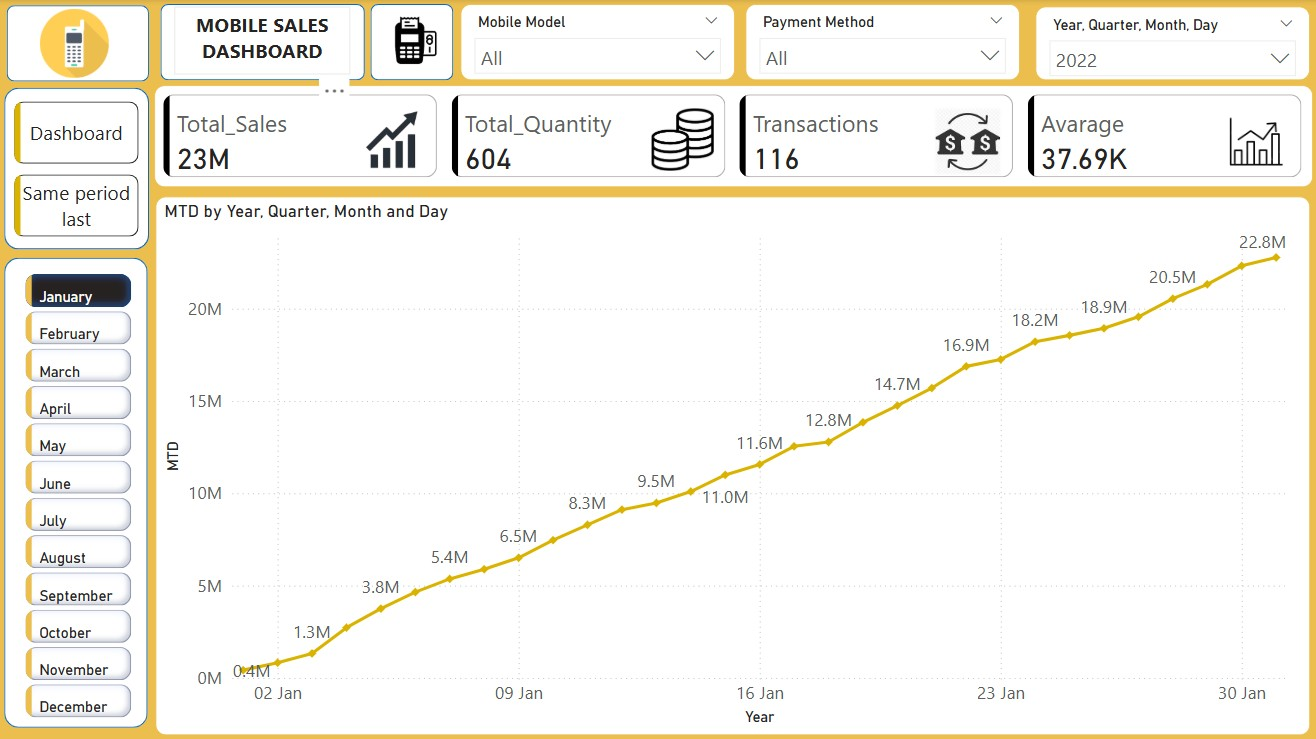

The page's visual inventory and layout, read from the dashboard file:
{"tool":"powerbi","page":{"name":"MTD  Report","canvas":[1280,720],"ordinal":1},"visuals":[{"type":"shape","box":[8.8,6.2,137.5,73.8],"z":0},{"type":"image","box":[25,5,96.2,76.2],"z":1000},{"type":"shape","box":[6.2,86.2,140,156.2],"z":2000},{"type":"cardVisual","fields":{"Data":["Sales_data.Total_Sales","Sales_data.Total_Quantity","Sales_data.Transactions","Sales_data.Avarage"]},"box":[151.2,83.8,1118.8,98.8],"z":3000},{"type":"slicer","fields":{"Values":["Sales_data.Mobile Model"]},"box":[446.2,5,265,73.8],"z":4000},{"type":"slicer","fields":{"Values":["Sales_data.Payment Method"]},"box":[721.2,5,265,73.8],"z":5000},{"type":"slicer","fields":{"Values":["Custum_Calander.Date.Variation.Date Hierarchy.Year","Custum_Calander.Date.Variation.Date Hierarchy.Quarter","Custum_Calander.Date.Variation.Date Hierarchy.Month","Custum_Calander.Date.Variation.Date Hierarchy.Day"]},"box":[1001.2,7.5,265,71.2],"z":6000},{"type":"shape","box":[360,5,80,73.8],"z":7000},{"type":"image","box":[371.2,8.8,63.8,63.8],"z":8000},{"type":"shape","box":[156.2,5,197.5,73.8],"z":9000},{"type":"textbox","box":[170,7.5,170,65],"z":10000},{"type":"lineChart","fields":{"Y":["Custum_Calander.MTD"],"Category":["Custum_Calander.Date.Variation.Date Hierarchy.Year","Custum_Calander.Date.Variation.Date Hierarchy.Quarter","Custum_Calander.Date.Variation.Date Hierarchy.Month","Custum_Calander.Date.Variation.Date Hierarchy.Day"]},"box":[152,190.6,1114.8,520],"z":11000},{"type":"shape","box":[6.2,250,138.8,453.8],"z":12000},{"type":"advancedSlicerVisual","fields":{"Values":["Custum_Calander.Date.Variation.Date Hierarchy.Month"]},"box":[21.2,260,112.5,440],"z":13000},{"type":"pageNavigator","box":[16.2,98.8,120,131.2],"z":13001}]}

Visuals, with their boxes in screenshot pixels (x1, y1, x2, y2), scaled from the page's 1280x720 canvas onto the 1316x739 screenshot:
shape: bbox(9, 6, 150, 82)
image: bbox(26, 5, 125, 83)
shape: bbox(6, 88, 150, 249)
cardVisual - Sales_data.Total_Sales x Sales_data.Total_Quantity: bbox(155, 86, 1306, 187)
slicer - Sales_data.Mobile Model: bbox(459, 5, 731, 81)
slicer - Sales_data.Payment Method: bbox(741, 5, 1014, 81)
slicer - Custum_Calander.Date.Variation.Date Hierarchy.Year x Custum_Calander.Date.Variation.Date Hierarchy.Quarter: bbox(1029, 8, 1302, 81)
shape: bbox(370, 5, 452, 81)
image: bbox(382, 9, 447, 75)
shape: bbox(161, 5, 364, 81)
textbox: bbox(175, 8, 350, 74)
lineChart - Custum_Calander.MTD x Custum_Calander.Date.Variation.Date Hierarchy.Year: bbox(156, 196, 1302, 729)
shape: bbox(6, 257, 149, 722)
advancedSlicerVisual - Custum_Calander.Date.Variation.Date Hierarchy.Month: bbox(22, 267, 137, 718)
pageNavigator: bbox(17, 101, 140, 236)
